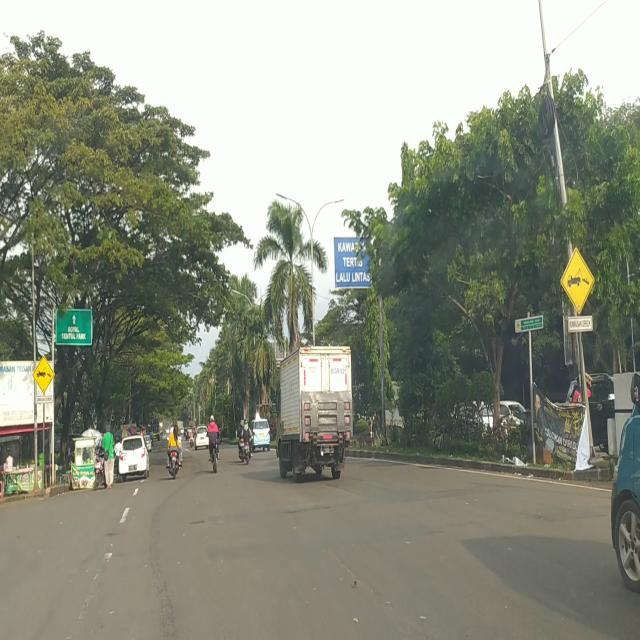Sewer Cover: (279, 503, 341, 516), (187, 517, 202, 528)
